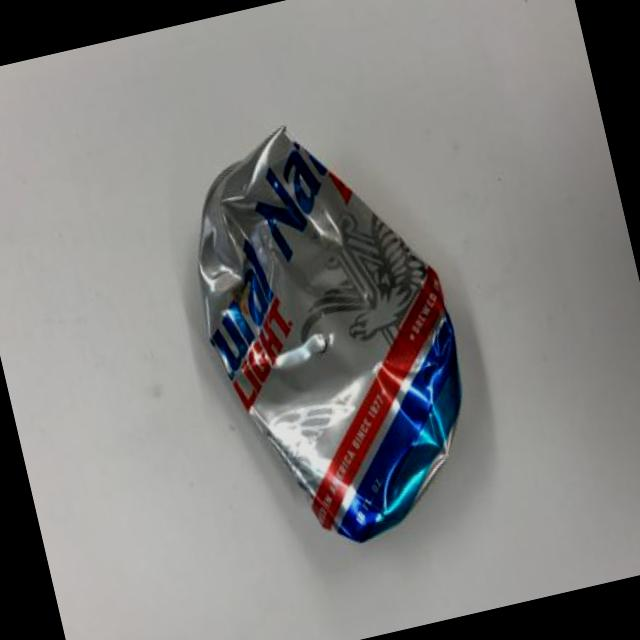nhom: (195, 128, 463, 545)
